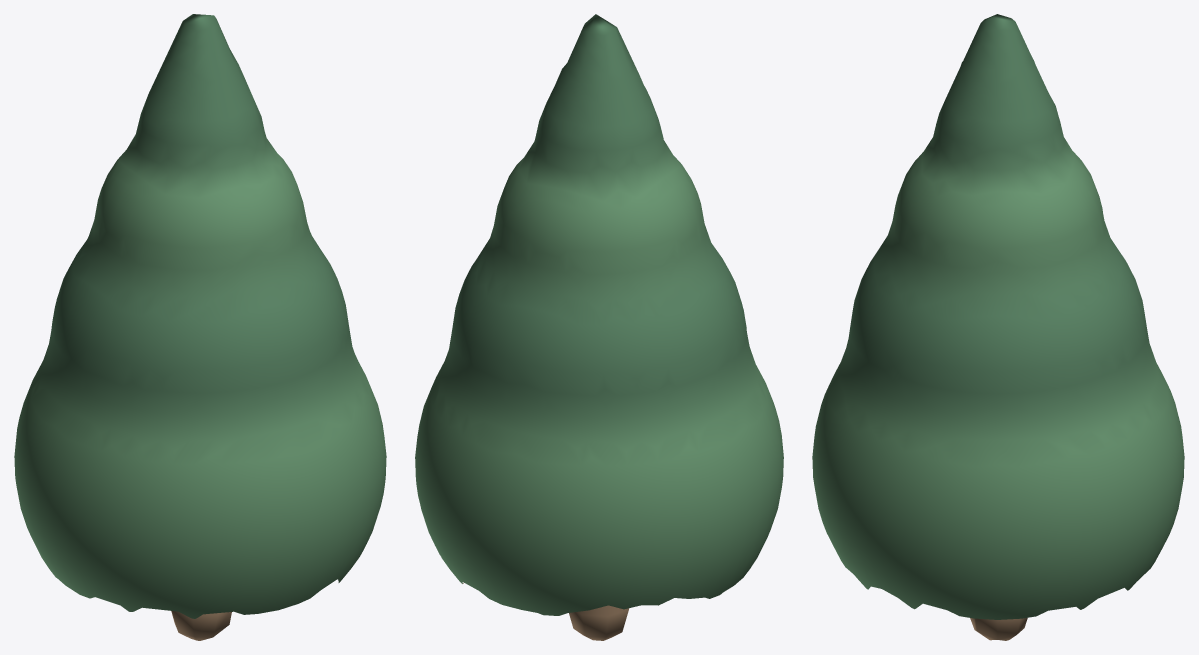
The model's file is pine.glb.
The picture shows the model from 3 angles, left to right: view 1: azimuth 30°, elevation 25°; view 2: azimuth 150°, elevation 25°; view 3: azimuth 270°, elevation 25°; orthographic projection.
Parts seen in each view (by area): view 1: pine; view 2: pine; view 3: pine.
Boxes of the visible parts, x1,y1,x2,y2 form: pine: [14, 14, 386, 640]; pine: [415, 14, 783, 640]; pine: [812, 14, 1184, 640].
Size of the model in its own units: 59.97 by 111 by 59.97.
